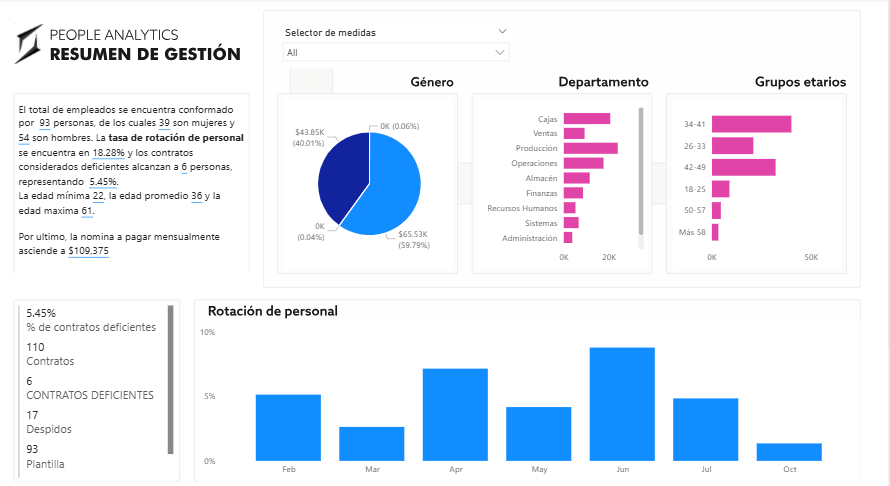

This screenshot's page, from the dashboard's own definition file:
{"tool":"powerbi","page":{"name":"DASHBOARD","canvas":[1280,720],"ordinal":0},"visuals":[{"type":"textbox","box":[21.8,143.6,336.4,260],"z":0},{"type":"pieChart","fields":{"Y":["Contrataciones.Contratos","Contrataciones.CONTRATOS DEFICIENTES","Contrataciones.Despidos","Contrataciones.Plantilla","Contrataciones.TOTAL NOMINA"],"Category":["Contrataciones.Género"]},"box":[410,143.8,242.5,247.5],"z":1000},{"type":"barChart","fields":{"Y":["Contrataciones.Contratos","Contrataciones.CONTRATOS DEFICIENTES","Contrataciones.Despidos","Contrataciones.Plantilla","Contrataciones.TOTAL NOMINA"],"Category":["Contrataciones.Departamento"]},"box":[690,143.8,242.5,247.5],"z":2000},{"type":"clusteredColumnChart","fields":{"Category":["Calendario.Mes"],"Y":["Contrataciones.% de rotación de personal"]},"box":[281.7,466.7,956.7,230],"z":3000},{"type":"multiRowCard","fields":{"Values":["Contrataciones.% de contratos deficientes","Contrataciones.Contratos","Contrataciones.CONTRATOS DEFICIENTES","Contrataciones.Despidos","Contrataciones.Plantilla","Contrataciones.TOTAL NOMINA"]},"box":[21.7,438.3,233.3,258.3],"z":4000},{"type":"slicer","fields":{"Values":["Selector de medidas .Selector de medidas"]},"box":[397.8,36.7,345.6,64.4],"z":5000},{"type":"barChart","fields":{"Y":["Contrataciones.Contratos","Contrataciones.CONTRATOS DEFICIENTES","Contrataciones.Despidos","Contrataciones.Plantilla","Contrataciones.TOTAL NOMINA"],"Category":["Contrataciones.Grupo étario"]},"box":[968.8,143.8,242.5,247.5],"z":6000}]}

Visuals, with their boxes on the page's 1280x720 design canvas (x1, y1, x2, y2). These are canvas units, not pixel positions in the 890x486 screenshot, which may show the page scaled, cropped or inside an application window:
textbox: [22, 144, 358, 404]
pieChart - Contrataciones.Contratos x Contrataciones.CONTRATOS DEFICIENTES: [410, 144, 652, 391]
barChart - Contrataciones.Contratos x Contrataciones.CONTRATOS DEFICIENTES: [690, 144, 932, 391]
clusteredColumnChart - Calendario.Mes x Contrataciones.% de rotación de personal: [282, 467, 1238, 697]
multiRowCard - Contrataciones.% de contratos deficientes x Contrataciones.Contratos: [22, 438, 255, 697]
slicer - Selector de medidas .Selector de medidas: [398, 37, 743, 101]
barChart - Contrataciones.Contratos x Contrataciones.CONTRATOS DEFICIENTES: [969, 144, 1211, 391]
